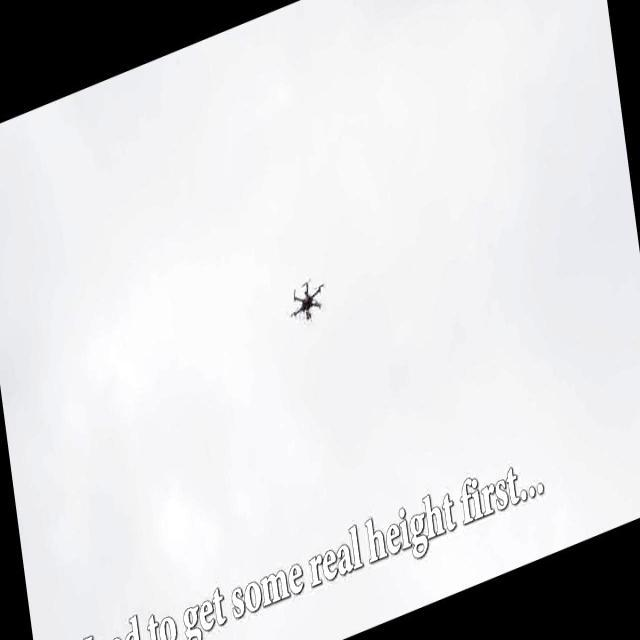drone: (282, 268, 330, 334)
